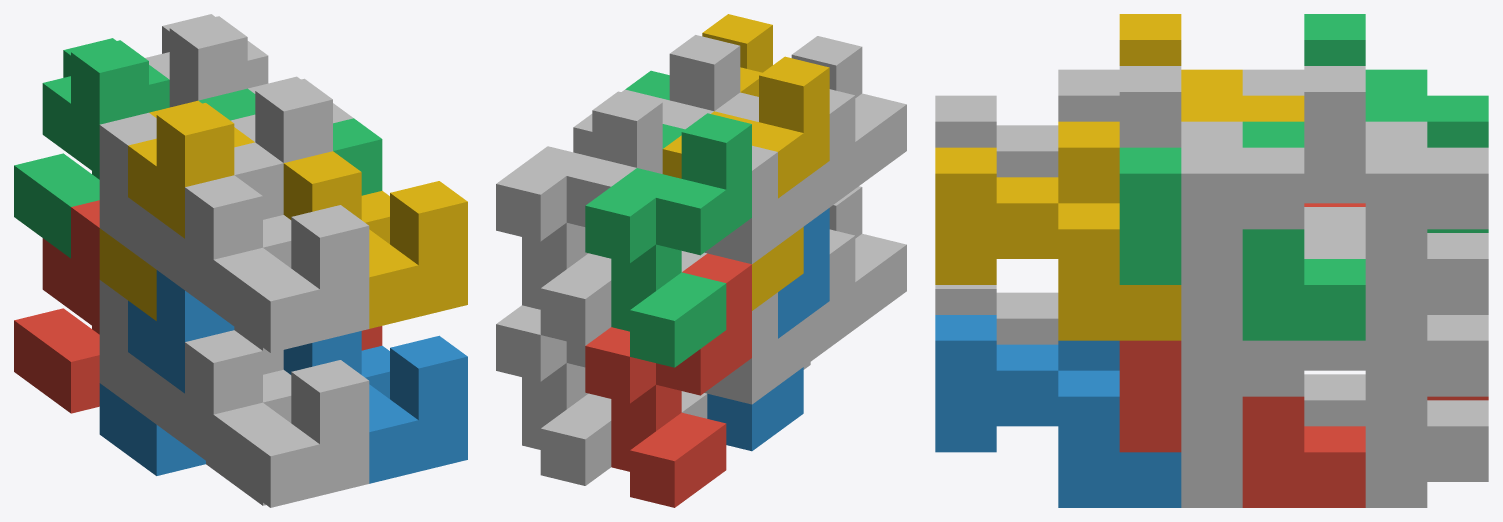
File: tiling.obj
3 renders of one model, left to right at view 1: azimuth 30°, elevation 25°; view 2: azimuth 150°, elevation 25°; view 3: azimuth 270°, elevation 25°, orthographic. The views are drawn at different scales.
Visible parts, largest first — view 1: copy_2_domain_2, copy_2_domain_4, copy_2_domain_8, copy_1_domain_3, copy_2_domain_6, copy_1_domain_4, copy_1_domain_1, copy_1_domain_2, copy_2_domain_3, copy_1_domain_7, copy_2_domain_1, copy_1_domain_8 (+1 smaller); view 2: copy_1_domain_3, copy_1_domain_7, copy_1_domain_1, copy_1_domain_5, copy_1_domain_4, copy_2_domain_4, copy_1_domain_2, copy_2_domain_2, copy_2_domain_3, copy_2_domain_1, copy_1_domain_8, copy_2_domain_8 (+1 smaller); view 3: copy_1_domain_7, copy_2_domain_8, copy_2_domain_6, copy_1_domain_5, copy_1_domain_8, copy_2_domain_7, copy_2_domain_5, copy_1_domain_6, copy_1_domain_3, copy_2_domain_4, copy_1_domain_4, copy_2_domain_2 (+2 smaller).
Part boxes in pixels (bbox=[...]): copy_2_domain_2: bbox=[185, 330, 369, 507]; copy_2_domain_4: bbox=[185, 175, 369, 352]; copy_2_domain_8: bbox=[283, 151, 467, 328]; copy_1_domain_3: bbox=[14, 38, 169, 258]; copy_2_domain_6: bbox=[283, 331, 467, 483]; copy_1_domain_4: bbox=[99, 100, 254, 320]; copy_1_domain_1: bbox=[14, 200, 99, 413]; copy_1_domain_2: bbox=[99, 270, 234, 475]; copy_2_domain_3: bbox=[99, 112, 283, 289]; copy_1_domain_7: bbox=[145, 14, 268, 107]; copy_2_domain_1: bbox=[99, 280, 283, 444]; copy_1_domain_8: bbox=[230, 76, 353, 162]; copy_1_domain_3: bbox=[585, 113, 751, 367]; copy_1_domain_7: bbox=[496, 91, 662, 345]; copy_1_domain_1: bbox=[585, 253, 751, 507]; copy_1_domain_5: bbox=[496, 305, 611, 485]; copy_1_domain_4: bbox=[662, 56, 829, 310]; copy_2_domain_4: bbox=[791, 36, 906, 207]; copy_1_domain_2: bbox=[707, 208, 829, 451]; copy_2_domain_2: bbox=[803, 186, 906, 369]; copy_2_domain_3: bbox=[681, 92, 829, 271]; copy_2_domain_1: bbox=[681, 292, 829, 418]; copy_1_domain_8: bbox=[573, 35, 740, 156]; copy_2_domain_8: bbox=[702, 14, 772, 96]; copy_1_domain_7: bbox=[1304, 66, 1488, 340]; copy_2_domain_8: bbox=[935, 121, 1181, 340]; copy_2_domain_6: bbox=[935, 315, 1181, 507]; copy_1_domain_5: bbox=[1304, 233, 1488, 507]; copy_1_domain_8: bbox=[1119, 66, 1304, 340]; copy_2_domain_7: bbox=[1119, 121, 1365, 340]; copy_2_domain_5: bbox=[1119, 340, 1365, 507]; copy_1_domain_6: bbox=[1181, 340, 1304, 507]; copy_1_domain_3: bbox=[1304, 14, 1488, 232]; copy_2_domain_4: bbox=[935, 69, 1119, 177]; copy_1_domain_4: bbox=[1119, 14, 1304, 121]; copy_2_domain_2: bbox=[935, 285, 1058, 344].
Size of the model in its own units: 4 by 7 by 9.
